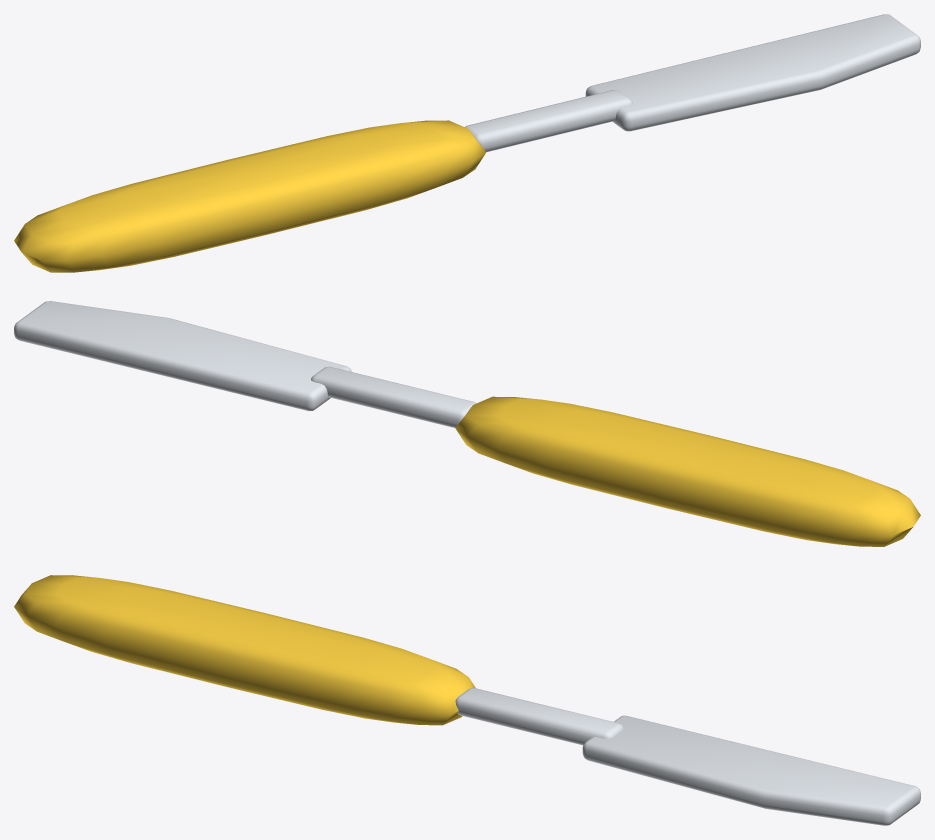
Rendered from faca.glb.
The picture shows the model from 3 angles, top to bottom: view 1: azimuth 30°, elevation 25°; view 2: azimuth 150°, elevation 25°; view 3: azimuth 330°, elevation 25°; orthographic projection.
Parts seen in each view (by area): view 1: faca; view 2: faca; view 3: faca.
Boxes of the visible parts, x1=… form: faca: x1=14, y1=14, x2=920, y2=272; faca: x1=14, y1=301, x2=920, y2=546; faca: x1=14, y1=575, x2=920, y2=825.
Size of the model in its own units: 0.195 by 0.011 by 0.02.
Materials: 1 (1 with a texture image).
